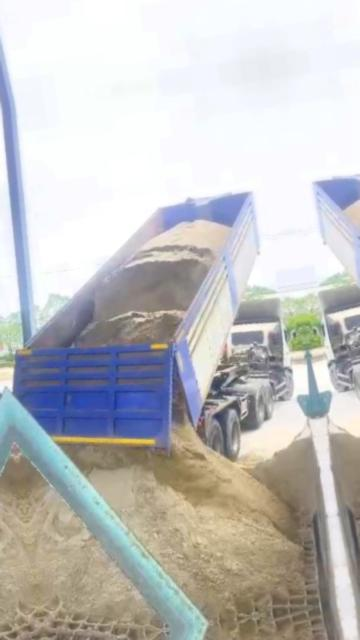sand: (65, 422, 302, 620), (19, 467, 155, 620), (75, 220, 229, 345), (237, 435, 316, 514)
